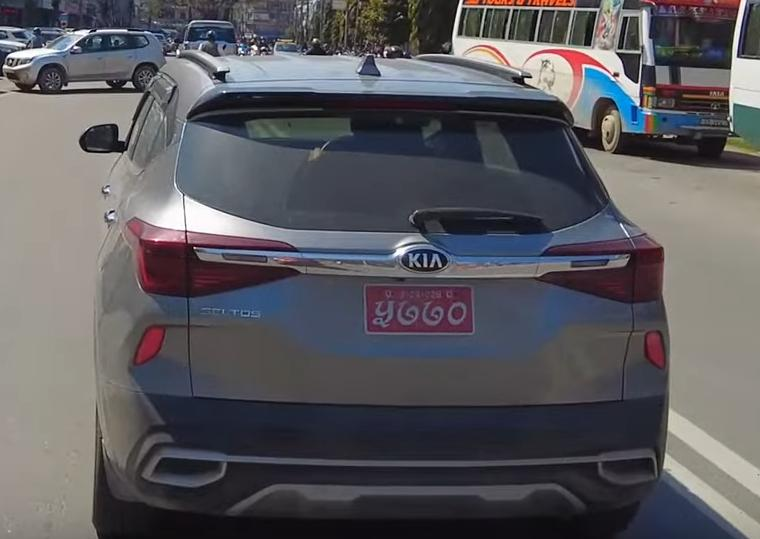bus: (450, 0, 738, 158)
car: (80, 49, 674, 539), (3, 26, 171, 102)
